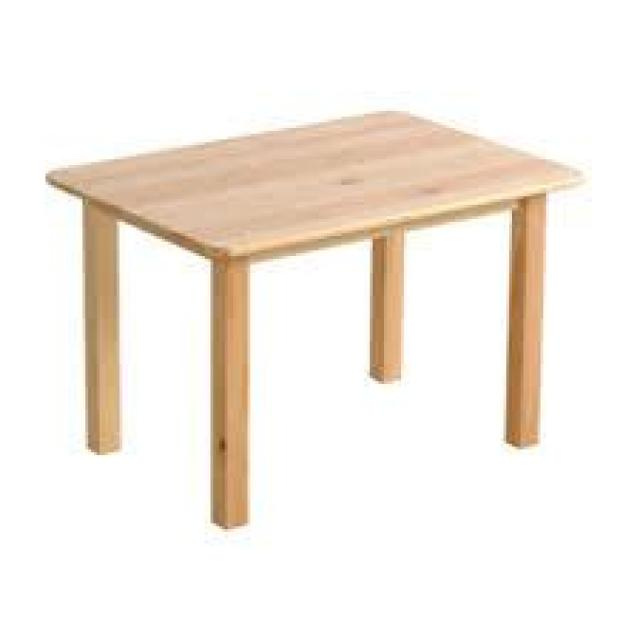table: (29, 87, 592, 536)
